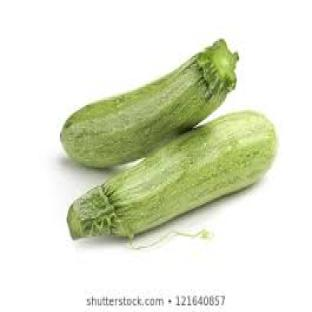Zucchini: (68, 112, 276, 238), (61, 40, 237, 167)
